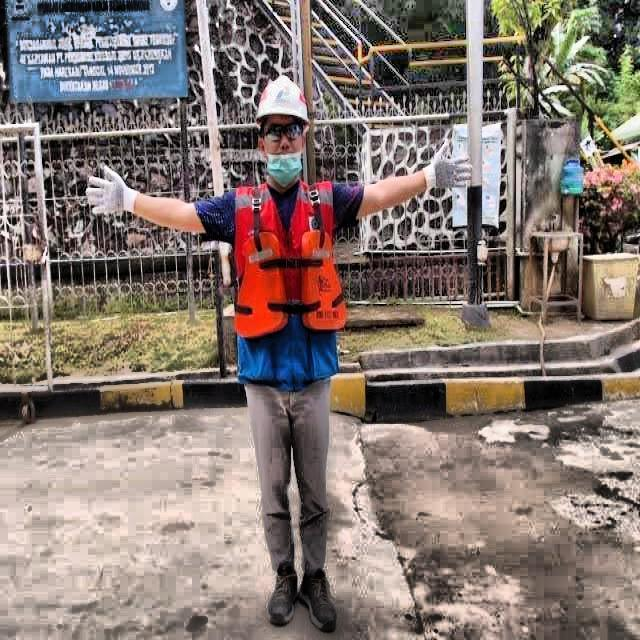safety_helmet: (255, 75, 313, 120)
safety_jacket: (233, 181, 346, 382)
